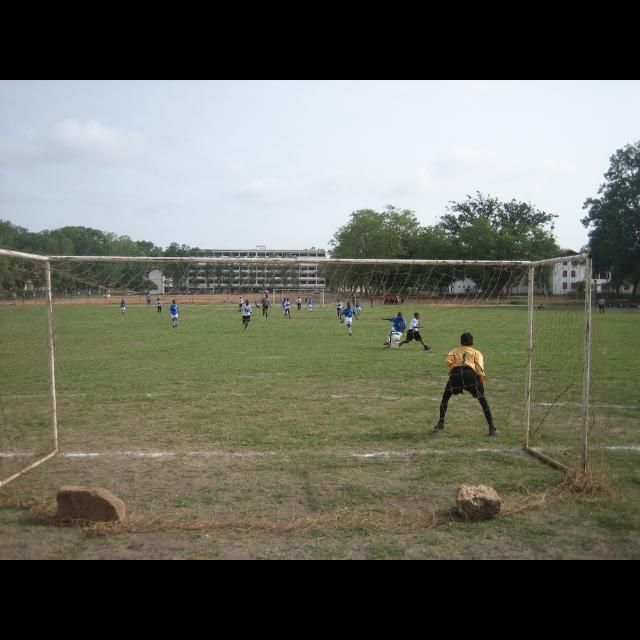Football: (390, 333, 400, 343)
